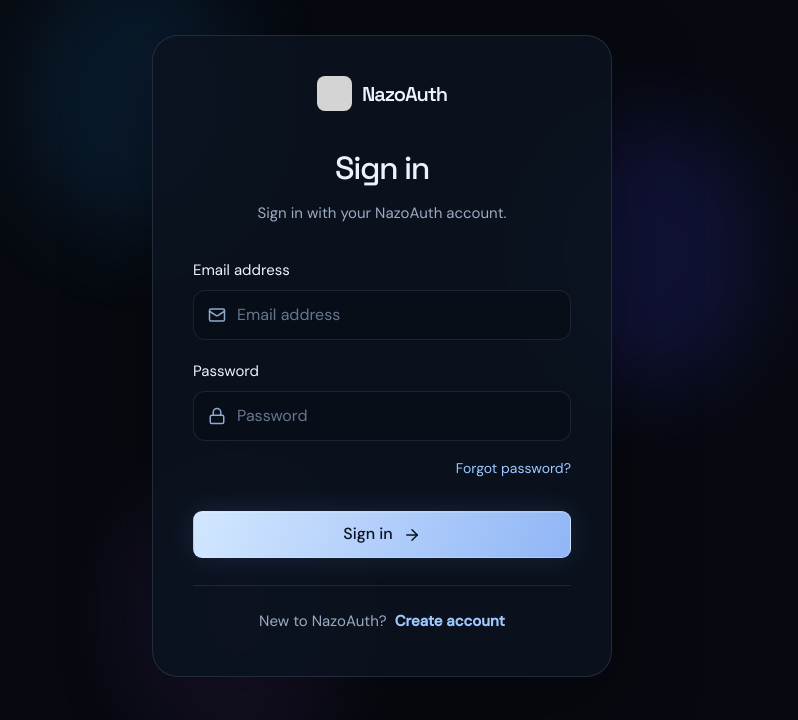
Test: account actions › sends the email code directly and keeps the resend cooldown
Click the button "Create account" at (450, 622), box [395,608,505,636]
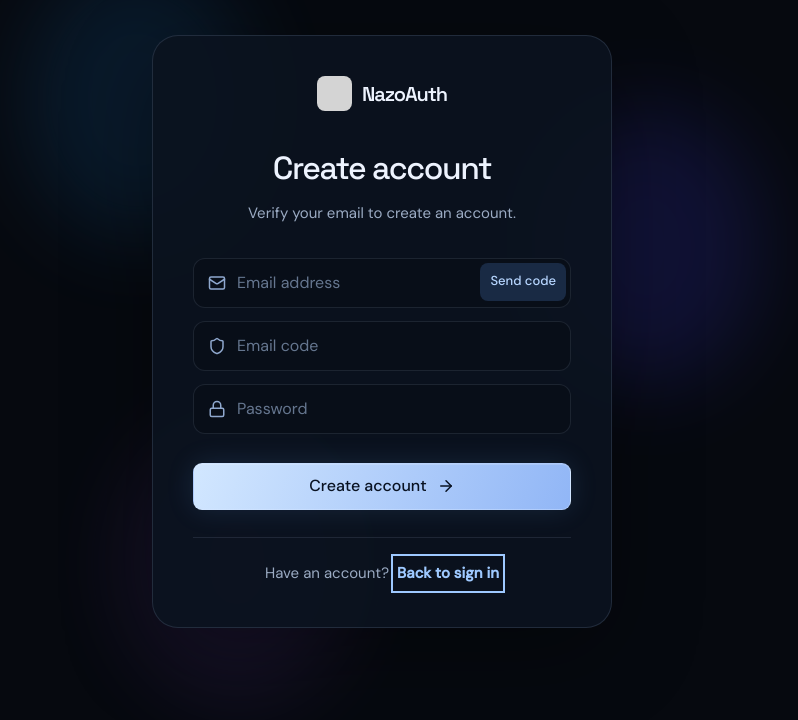
Check: the field with placeholder "Email code" is shown, box [193,321,571,371]
Type "user@example.test" into the field with placeholder "Email address" at (382, 283), box [193,258,571,308]
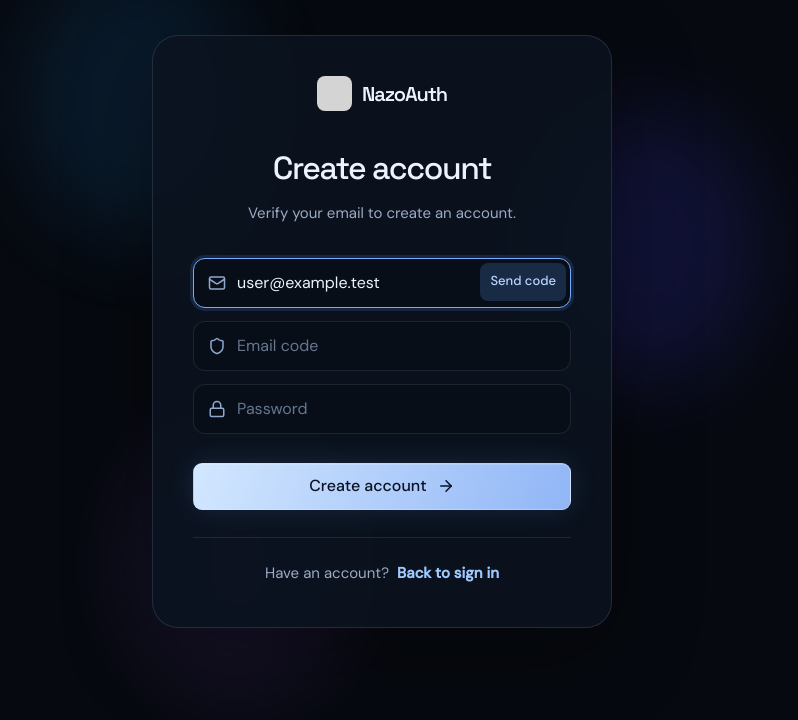
Click the button "Send code" at (523, 282), box [480,263,566,301]
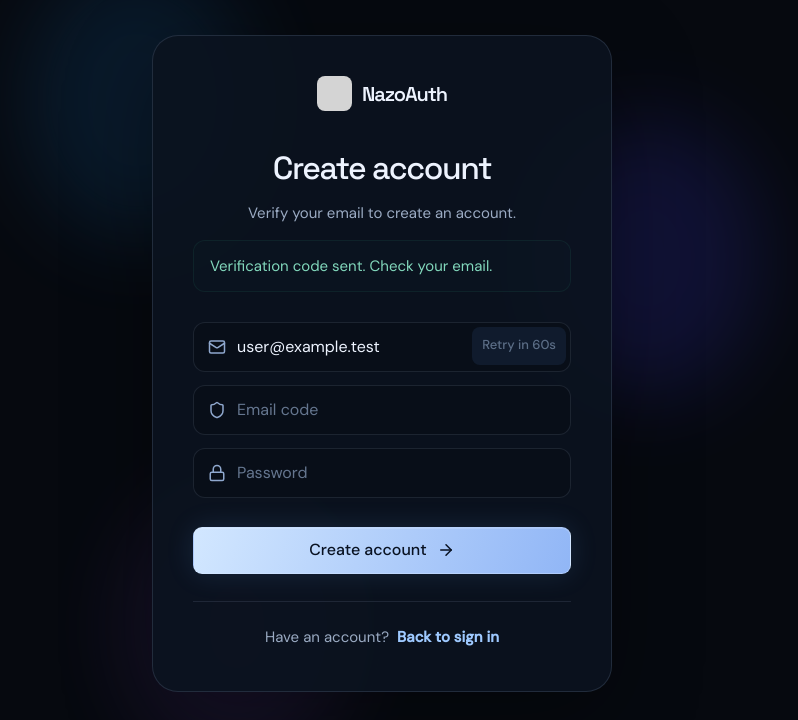
Check: the text "Verification code sent. Check your email." is shown, box [193,240,571,292]
Check: the button "Retry in 60s" is disabled, box [472,327,566,365]
